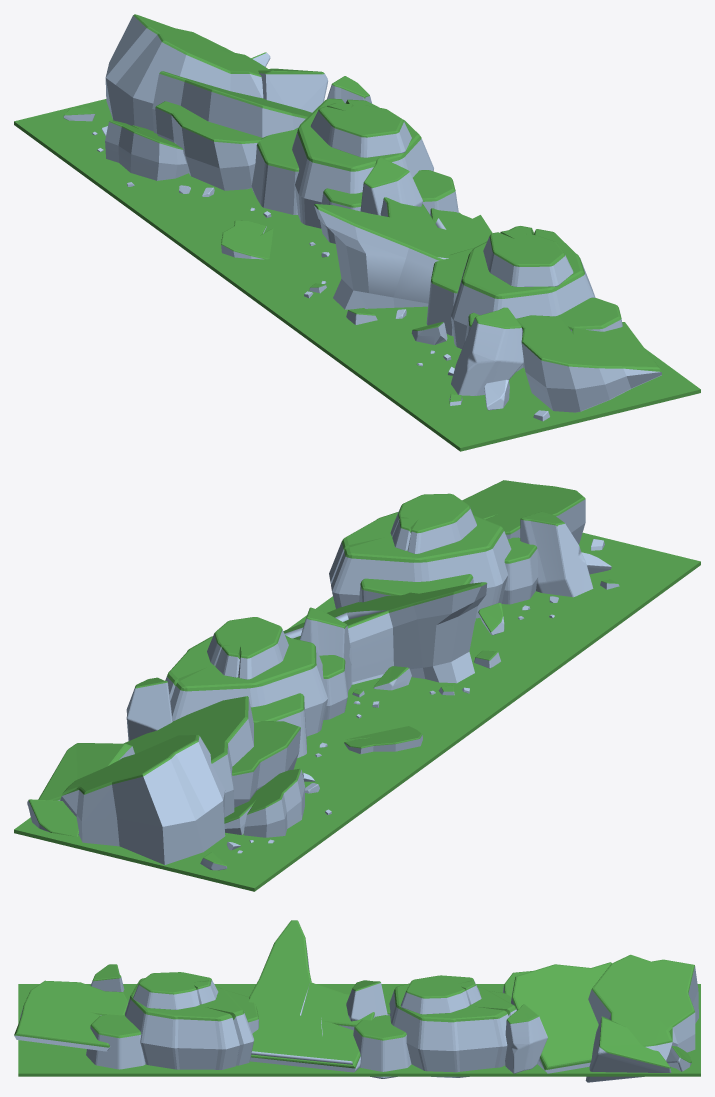
Rendered from Pebble's Road Section 04.fbx.
3 views of the same model, one above another, from view 1: azimuth 30°, elevation 25°; view 2: azimuth 150°, elevation 25°; view 3: azimuth 270°, elevation 25° (orthographic). The views are drawn at different scales.
Visible parts, largest first — view 1: Ground, Rock_10_, Rock_02_, Rock_10_2, Rock_04__10, Rock_07_, Rock_04__8, Rock_04__9, Rock_13_4, Rock_04__3, Rock_12_6, Rock_13_2 (+5 smaller); view 2: Ground, Rock_10_2, Rock_07_, Rock_10_, Rock_02_, Rock_04__9, Rock_04__10, Rock_13_4, Rock_04__3, Rock_04__8, Rock_12_6, Rock_13_3 (+4 smaller); view 3: Rock_02_, Rock_10_2, Rock_10_, Ground, Rock_07_, Rock_04__9, Rock_04__10, Rock_12_6, Rock_09_, Rock_09__1, Rock_13_3, Rock_13_2 (+2 smaller).
Part boxes in pixels (x1=…): Ground: x1=14, y1=99, x2=700, y2=451; Rock_10_: x1=251, y1=98, x2=433, y2=243; Rock_02_: x1=314, y1=197, x2=492, y2=309; Rock_10_2: x1=426, y1=226, x2=595, y2=371; Rock_04__10: x1=516, y1=315, x2=661, y2=412; Rock_07_: x1=105, y1=14, x2=269, y2=131; Rock_04__8: x1=155, y1=101, x2=262, y2=190; Rock_04__9: x1=152, y1=71, x2=311, y2=137; Rock_13_4: x1=451, y1=307, x2=523, y2=395; Rock_04__3: x1=105, y1=120, x2=188, y2=180; Rock_12_6: x1=258, y1=68, x2=328, y2=112; Rock_13_2: x1=360, y1=157, x2=422, y2=215; Ground: x1=14, y1=532, x2=700, y2=891; Rock_10_2: x1=329, y1=493, x2=538, y2=621; Rock_07_: x1=60, y1=734, x2=225, y2=864; Rock_10_: x1=165, y1=617, x2=348, y2=757; Rock_02_: x1=283, y1=582, x2=487, y2=684; Rock_04__9: x1=124, y1=696, x2=253, y2=817; Rock_04__10: x1=462, y1=480, x2=585, y2=544; Rock_13_4: x1=520, y1=512, x2=593, y2=597; Rock_04__3: x1=224, y1=768, x2=305, y2=837; Rock_04__8: x1=232, y1=721, x2=300, y2=807; Rock_12_6: x1=38, y1=743, x2=134, y2=800; Rock_13_3: x1=126, y1=677, x2=172, y2=740; Rock_02_: x1=249, y1=920, x2=374, y2=1072; Rock_10_2: x1=123, y1=972, x2=258, y2=1069; Rock_10_: x1=384, y1=975, x2=516, y2=1077; Ground: x1=18, y1=984, x2=700, y2=1076; Rock_07_: x1=588, y1=954, x2=698, y2=1060; Rock_04__9: x1=511, y1=962, x2=611, y2=1073; Rock_04__10: x1=14, y1=980, x2=128, y2=1051; Rock_12_6: x1=585, y1=1016, x2=671, y2=1082; Rock_09_: x1=353, y1=1015, x2=411, y2=1078; Rock_09__1: x1=86, y1=1014, x2=145, y2=1069; Rock_13_3: x1=505, y1=1004, x2=547, y2=1073; Rock_13_2: x1=346, y1=980, x2=387, y2=1021.
Bounding box in the file's own units: 7237 × 3559 × 22639.
